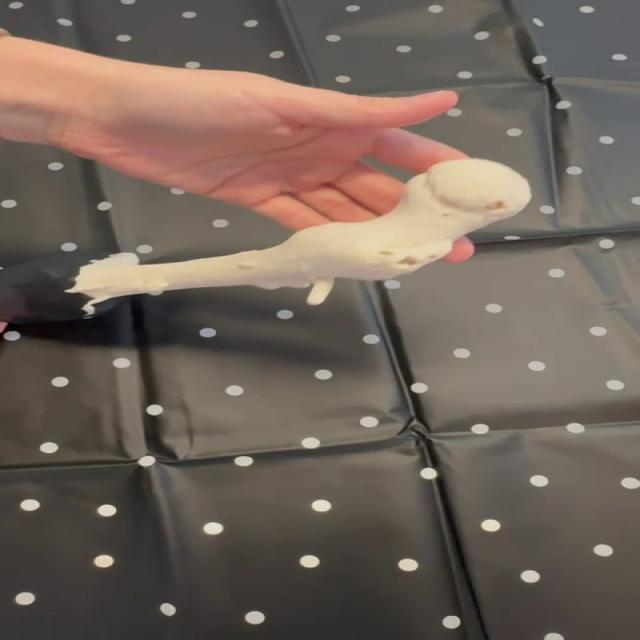bones: (0, 159, 531, 323)
